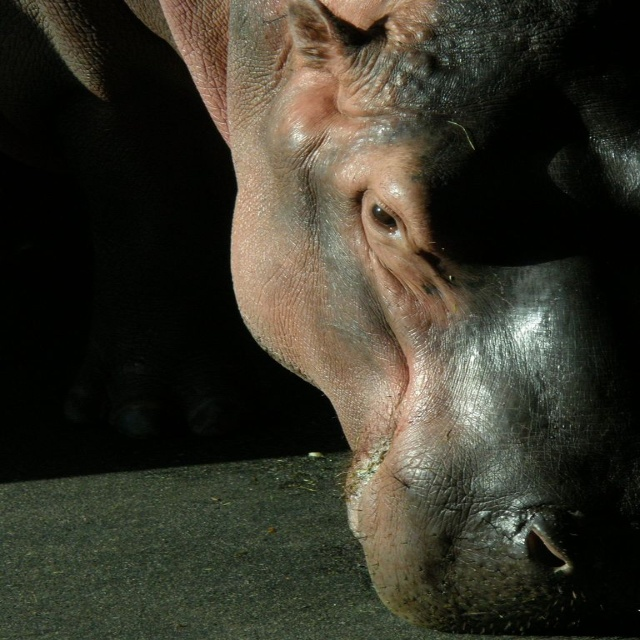Hippopotamus: (6, 0, 639, 637)
